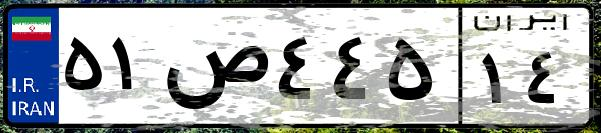1: (475, 38, 525, 113), (110, 28, 158, 98)
4: (270, 28, 330, 110), (330, 28, 385, 110), (525, 38, 570, 115)
5: (385, 28, 445, 110), (57, 26, 110, 100)
ص: (158, 20, 270, 120)
